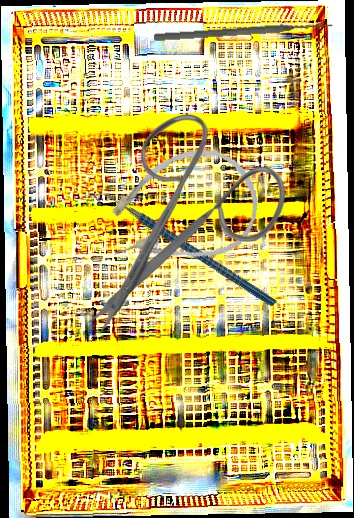Cannula: (91, 136, 270, 283)
Chopper: (84, 142, 278, 356)
Iris Scissors: (86, 114, 285, 338)
Pusher: (153, 19, 335, 44)
